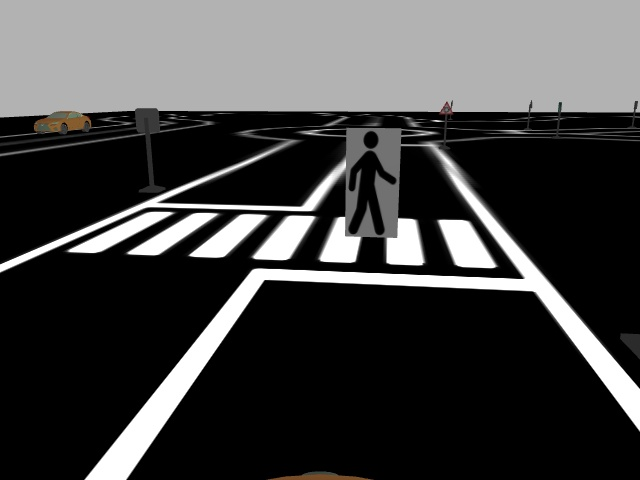pedestrian: (344, 125, 400, 240)
